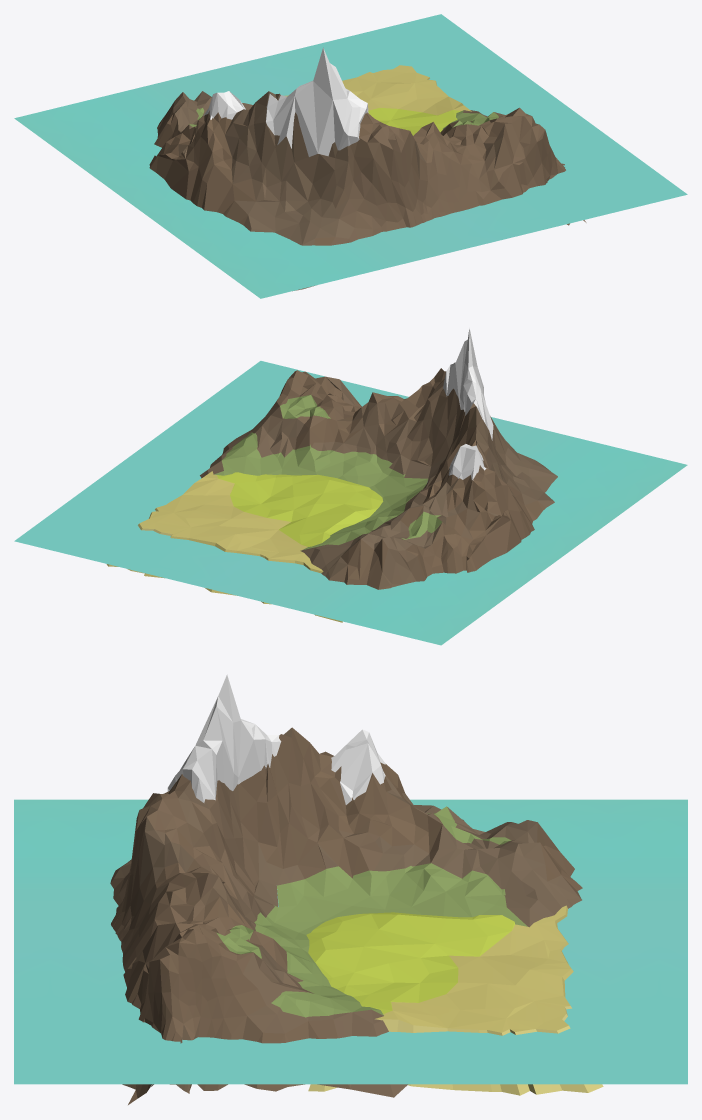
File: island.obj
3 renders of one model, top to bottom at view 1: azimuth 30°, elevation 25°; view 2: azimuth 150°, elevation 25°; view 3: azimuth 270°, elevation 25°, orthographic. The views are drawn at different scales.
Visible parts, largest first — view 1: Water_1, Land_1; view 2: Land_1, Water_1; view 3: Land_1, Water_1.
Part boxes in pixels (left/top/right/bottom): Water_1: left=14, top=14, right=687, bottom=298; Land_1: left=149, top=47, right=586, bottom=291; Land_1: left=106, top=328, right=557, bottom=622; Water_1: left=14, top=361, right=687, bottom=645; Land_1: left=110, top=674, right=603, bottom=1104; Water_1: left=14, top=799, right=687, bottom=1084.
Size of the model in its own units: 104 by 47.58 by 104.
Materials: 1 (1 with a texture image).
